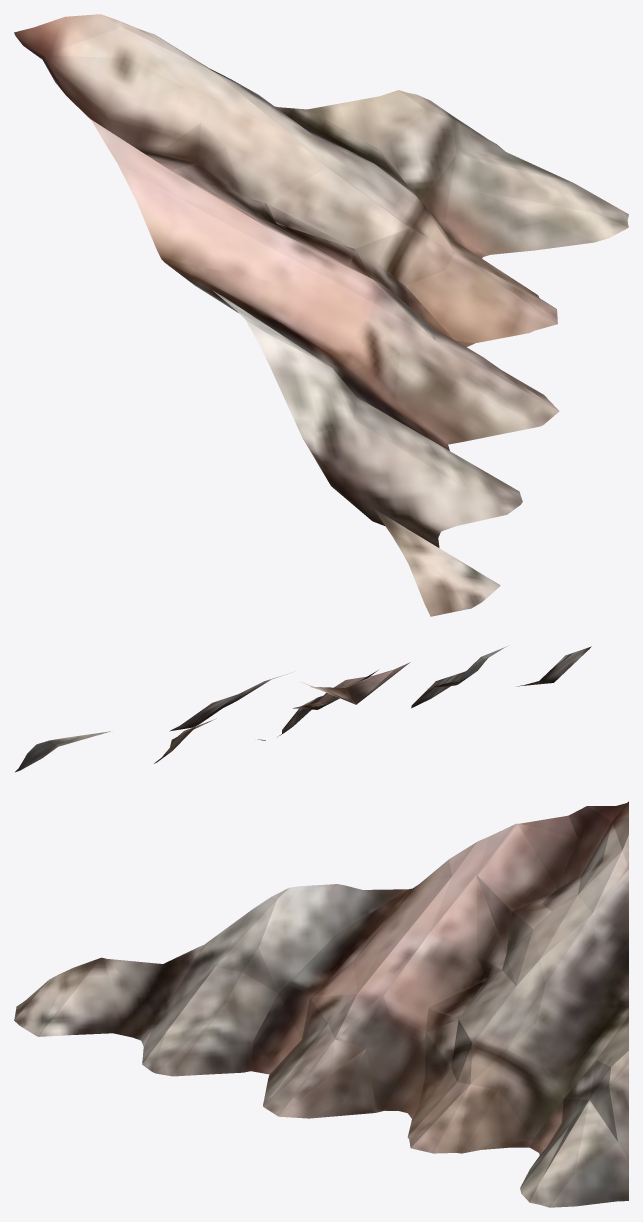
3 renders of one model, top to bottom at view 1: azimuth 30°, elevation 25°; view 2: azimuth 150°, elevation 25°; view 3: azimuth 270°, elevation 25°, orthographic. The views are drawn at different scales.
Bounding box in the file's own units: 0.6088 × 0.293 × 0.7863.
Materials: 1 (1 with a texture image).
